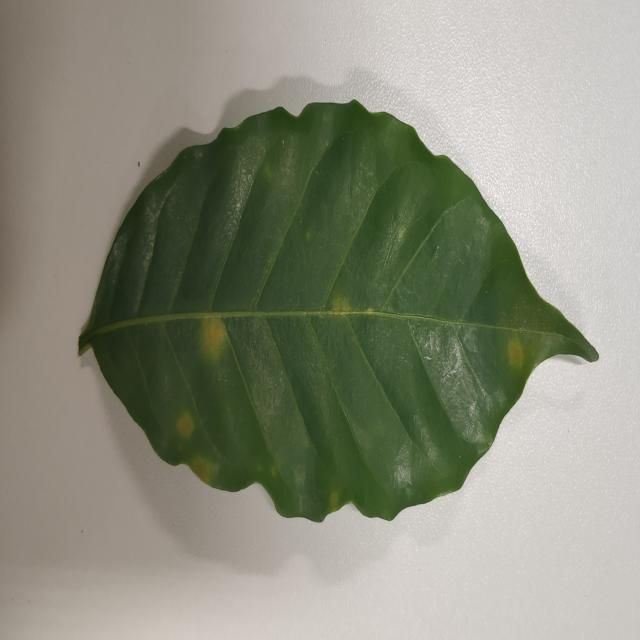Enfermedad-Roya: (77, 100, 600, 526)
